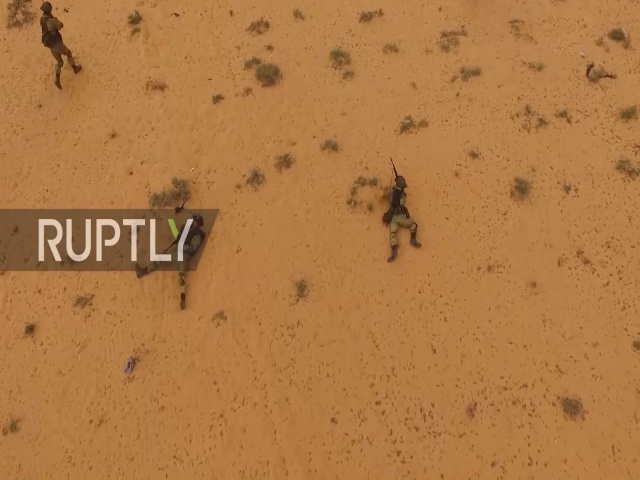person: (32, 1, 84, 91), (378, 162, 424, 262)
